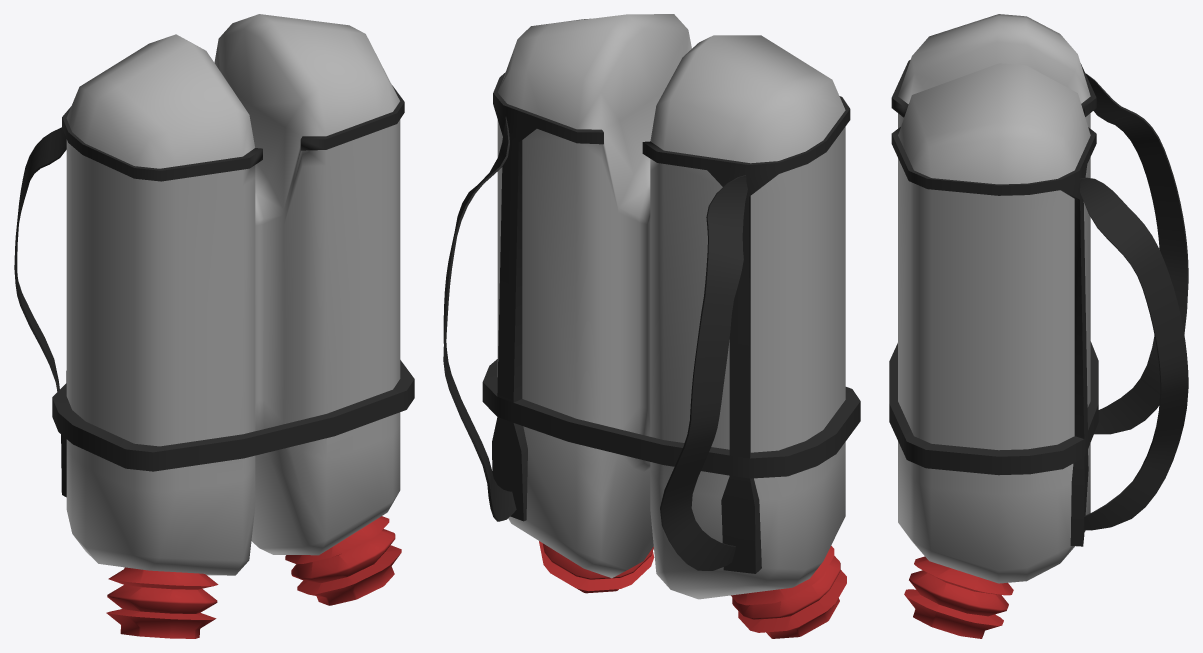
Rendered from Jetpack.fbx.
3 renders of one model, left to right at view 1: azimuth 30°, elevation 25°; view 2: azimuth 150°, elevation 25°; view 3: azimuth 270°, elevation 25°, orthographic. The views are drawn at different scales.
Visible parts, largest first — view 1: Jetpack_Model; view 2: Jetpack_Model; view 3: Jetpack_Model.
Boxes of the visible parts, left/top/right/bottom form: Jetpack_Model: left=14, top=14, right=414, bottom=638; Jetpack_Model: left=443, top=14, right=860, bottom=638; Jetpack_Model: left=889, top=14, right=1188, bottom=638.
Bounding box in the file's own units: 56.03 × 96.32 × 47.62.
